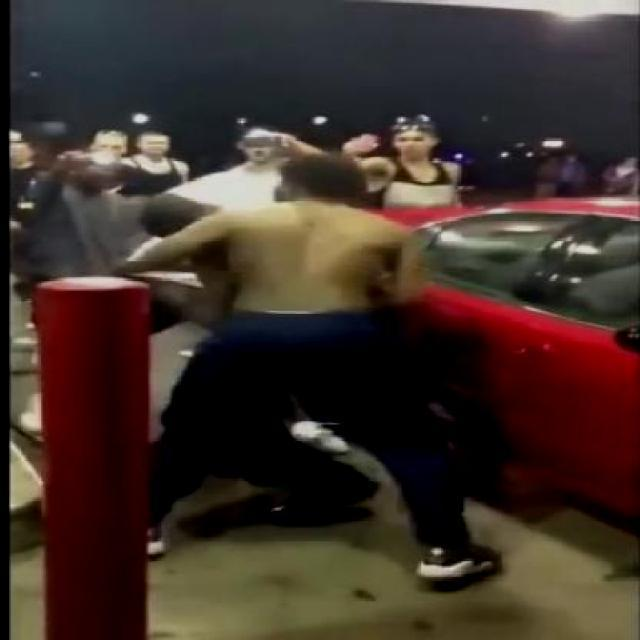fight: (125, 134, 430, 554)
